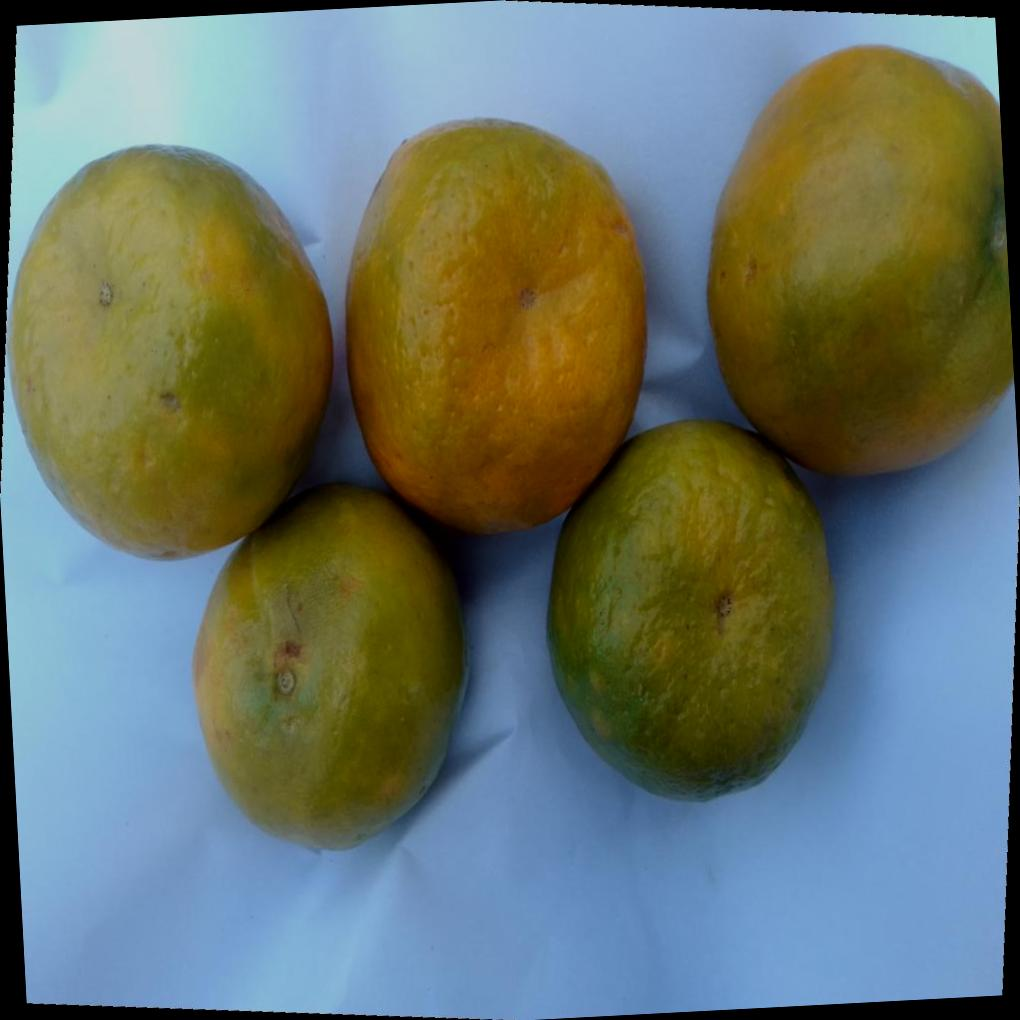FreshGuava: (46, 42, 1014, 853)
